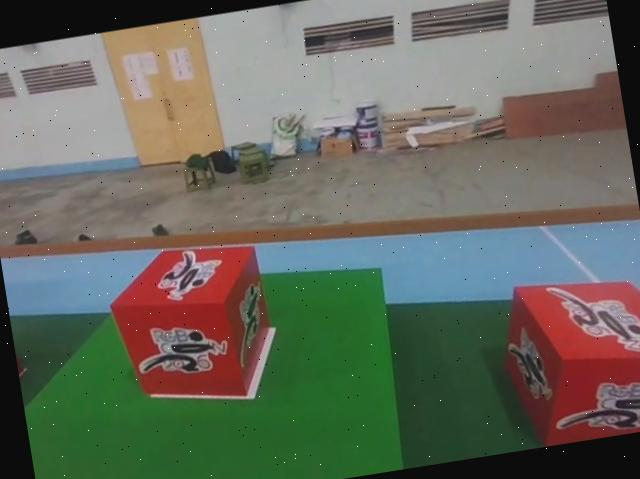R1: (98, 227, 286, 420), (486, 259, 640, 451)
